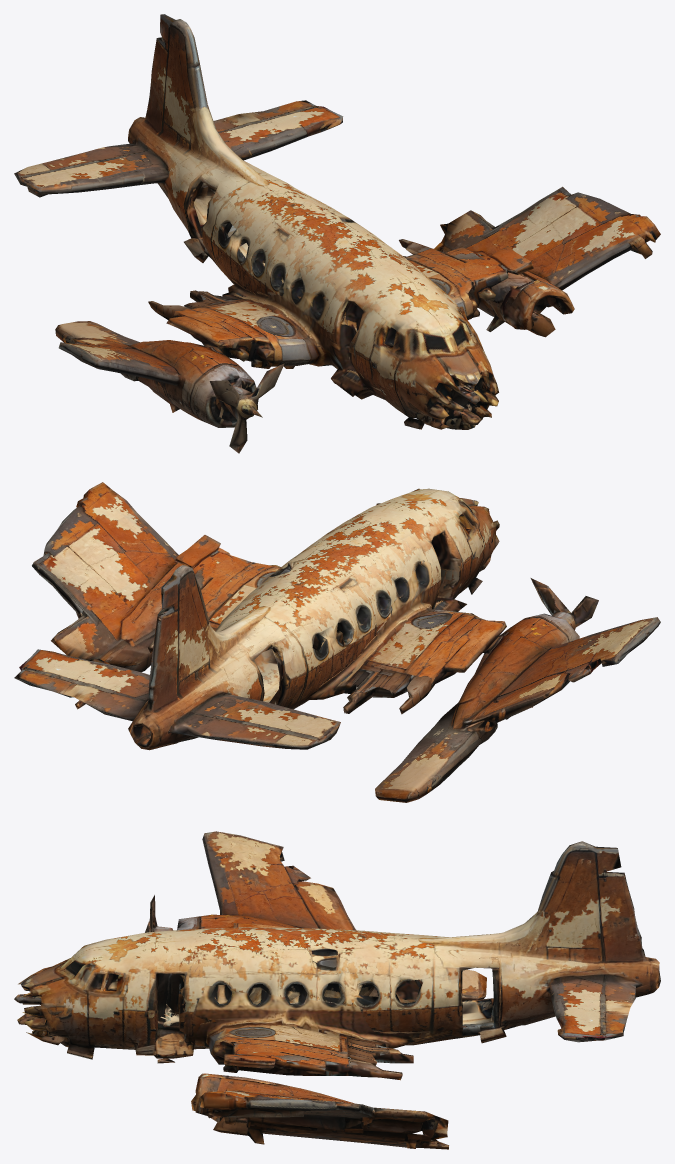
File: Settle_PlaneWreck.fbx
3 renders of one model, top to bottom at view 1: azimuth 30°, elevation 25°; view 2: azimuth 150°, elevation 25°; view 3: azimuth 270°, elevation 25°, orthographic. The views are drawn at different scales.
Parts seen in each view (by area): view 1: texture_mapping; view 2: texture_mapping; view 3: texture_mapping.
Boxes of the visible parts, x1=… form: texture_mapping: x1=14, y1=14, x2=660, y2=453; texture_mapping: x1=14, y1=482, x2=660, y2=802; texture_mapping: x1=14, y1=831, x2=660, y2=1149.
Bounding box in the file's own units: 0.973 × 1 × 0.3892.
Materials: 1 (1 with a texture image).
